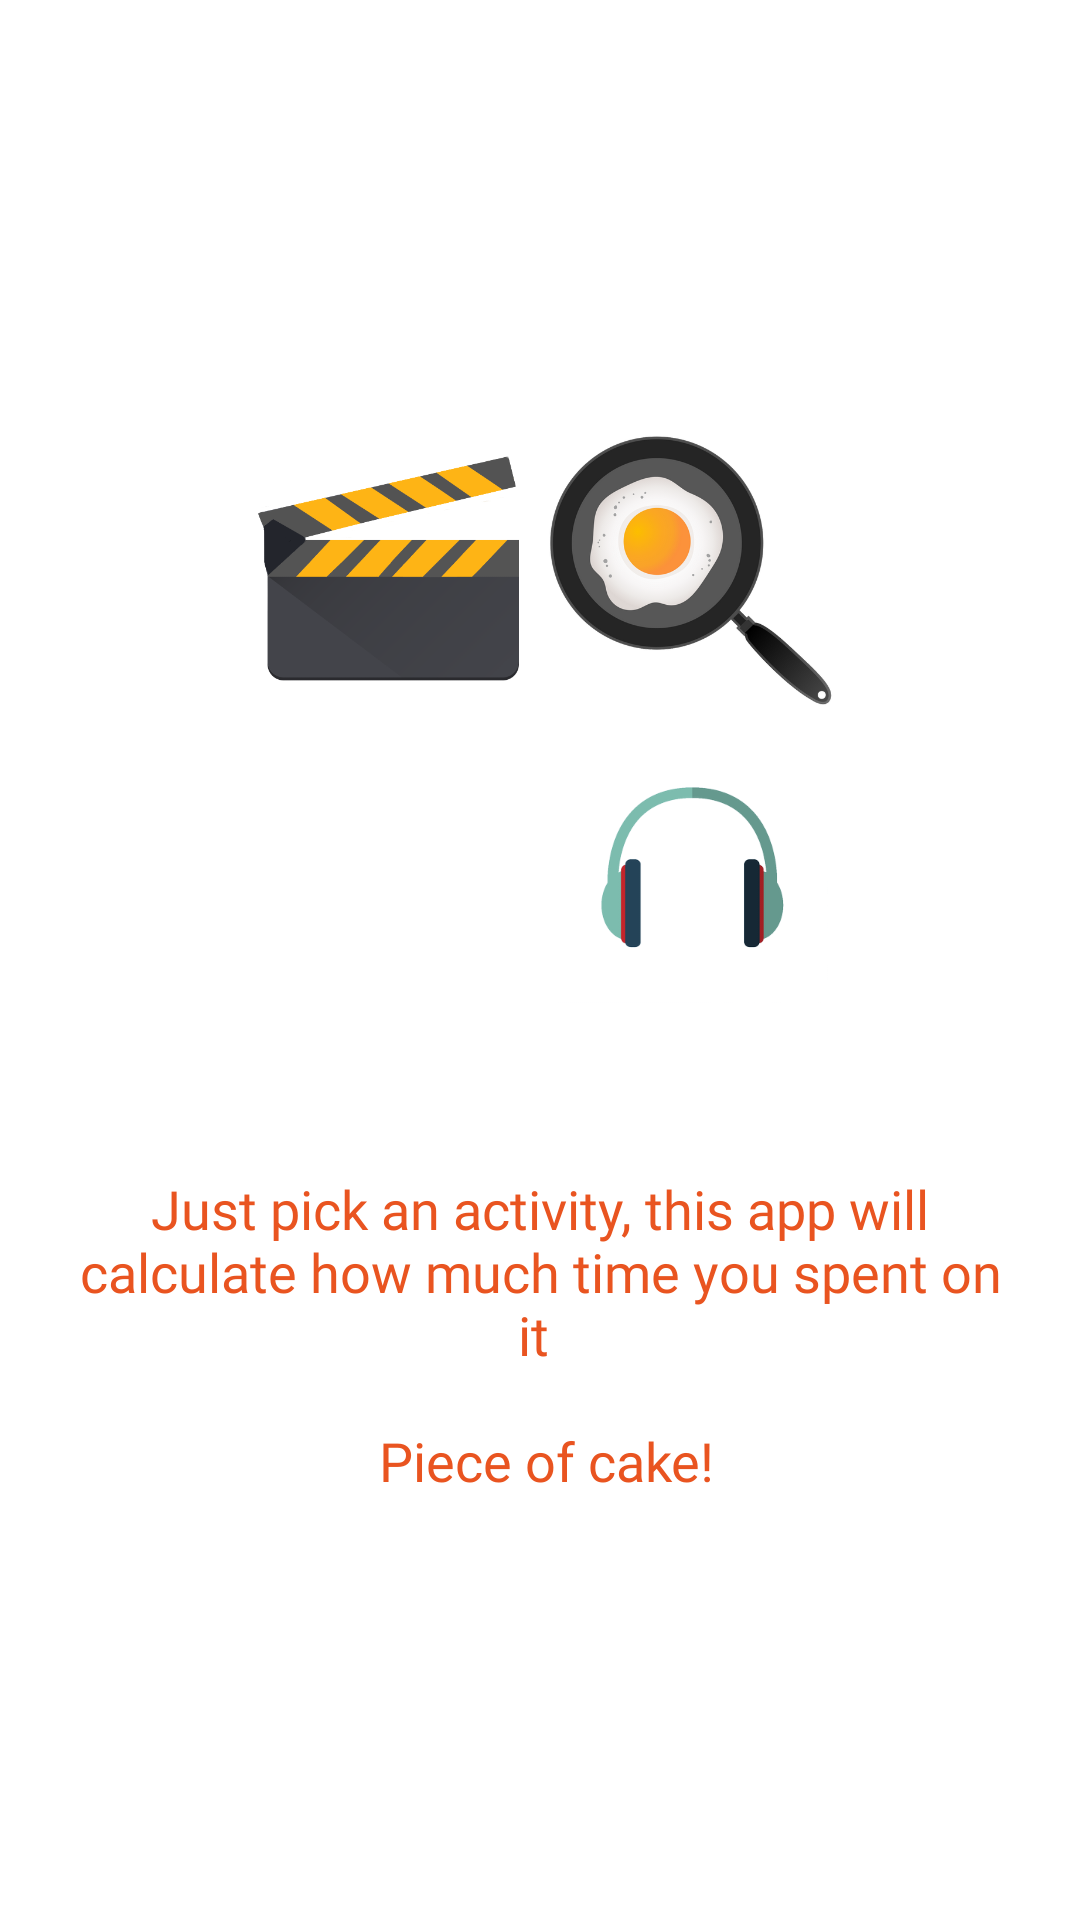

Named icons in this screenshot (1080x1920) and their bounding boxes, (x1, y1, x2, y2):
cooking: (550, 436, 832, 705)
movie: (258, 456, 519, 681)
music: (601, 787, 784, 948)
